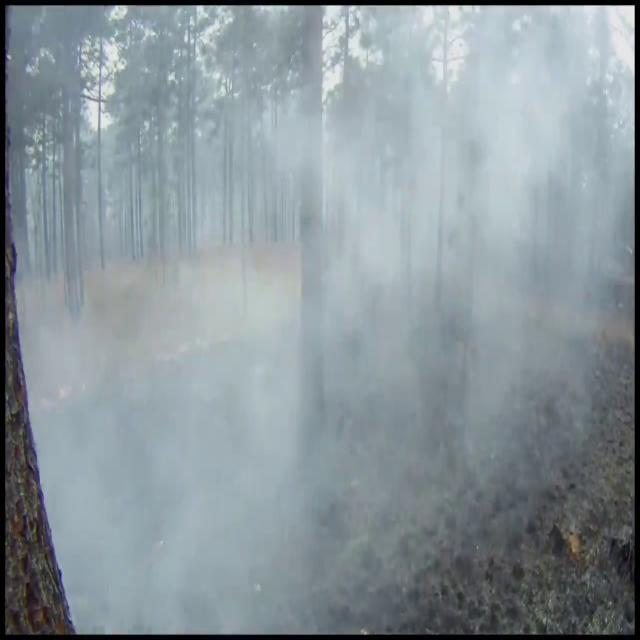Smoke: (21, 6, 623, 635)
